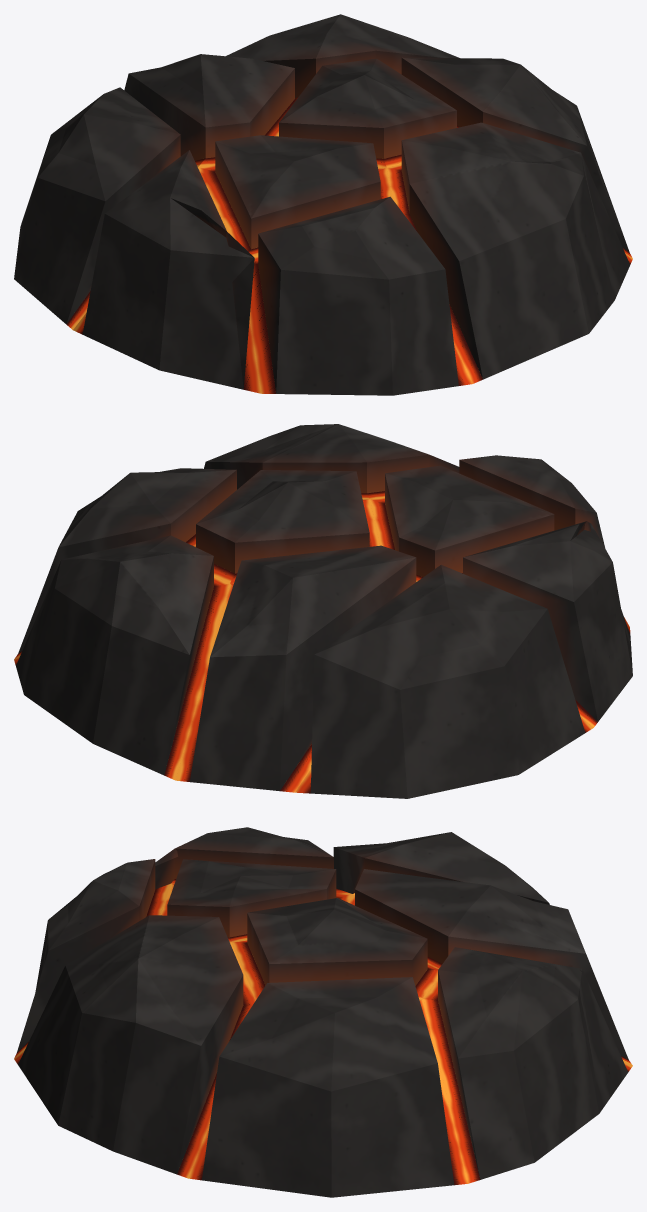
The model's file is 펑크_용암바위_01.fbx.
3 views of the same model, one above another, from view 1: azimuth 30°, elevation 25°; view 2: azimuth 150°, elevation 25°; view 3: azimuth 270°, elevation 25° (orthographic).
Parts seen in each view (by area): view 1: 펑크_용암바위_01; view 2: 펑크_용암바위_01; view 3: 펑크_용암바위_01.
Boxes of the visible parts, left/top/right/bottom form: 펑크_용암바위_01: left=14, top=14, right=632, bottom=395; 펑크_용암바위_01: left=14, top=424, right=632, bottom=798; 펑크_용암바위_01: left=14, top=827, right=632, bottom=1197.
Bounding box in the file's own units: 472 × 150 × 481.
2 materials, 2 textured.
